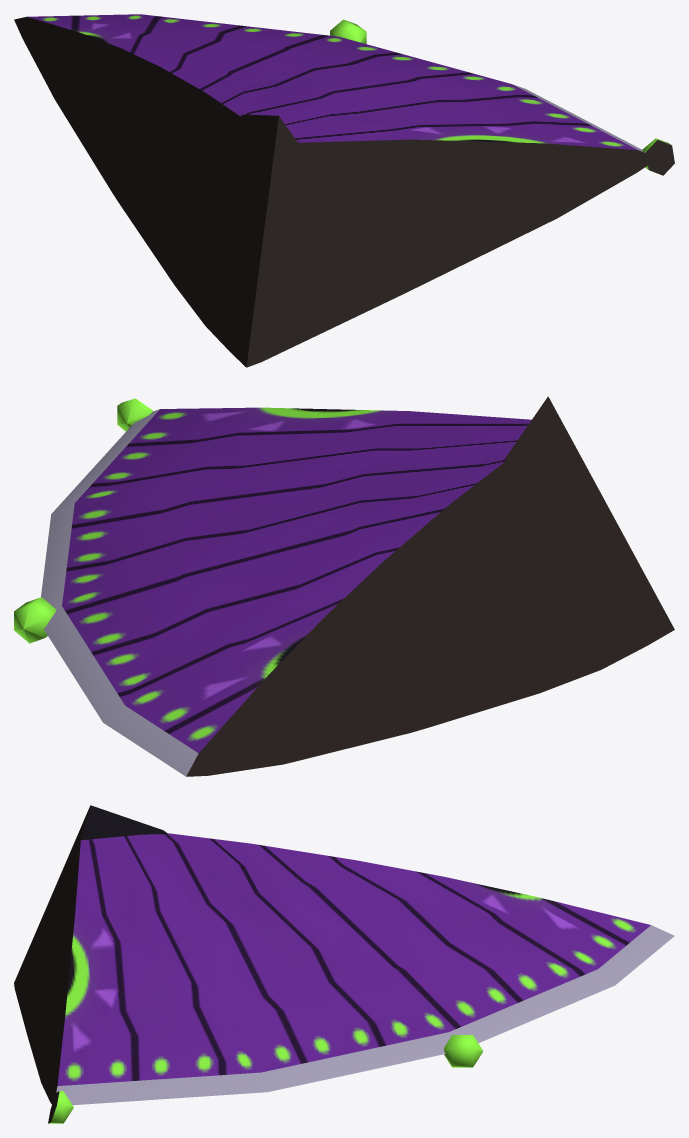
The model's file is grappler_debris1.obj.
3 renders of one model, top to bottom at view 1: azimuth 30°, elevation 25°; view 2: azimuth 150°, elevation 25°; view 3: azimuth 270°, elevation 25°, orthographic. The views are drawn at different scales.
Parts seen in each view (by area): view 1: disc, rim_light, hub; view 2: disc, rim_light, hub; view 3: disc, hub, rim_light.
Boxes of the visible parts, left/top/right/bottom form: disc: left=14, top=14, right=655, bottom=367; rim_light: left=330, top=19, right=674, bottom=175; hub: left=237, top=114, right=297, bottom=146; disc: left=41, top=407, right=674, bottom=776; rim_light: left=14, top=398, right=152, bottom=643; hub: left=503, top=396, right=563, bottom=468; disc: left=14, top=828, right=674, bottom=1105; hub: left=81, top=805, right=166, bottom=840; rim_light: left=48, top=1035, right=483, bottom=1123.
Bounding box in the file's own units: 7.61 × 3.38 × 9.52.
5 materials, 1 textured.
